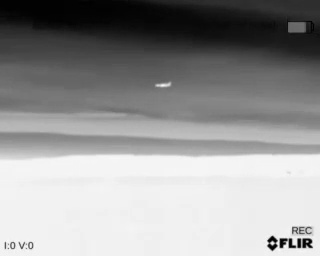AIRPLANE: (153, 78, 174, 91)
